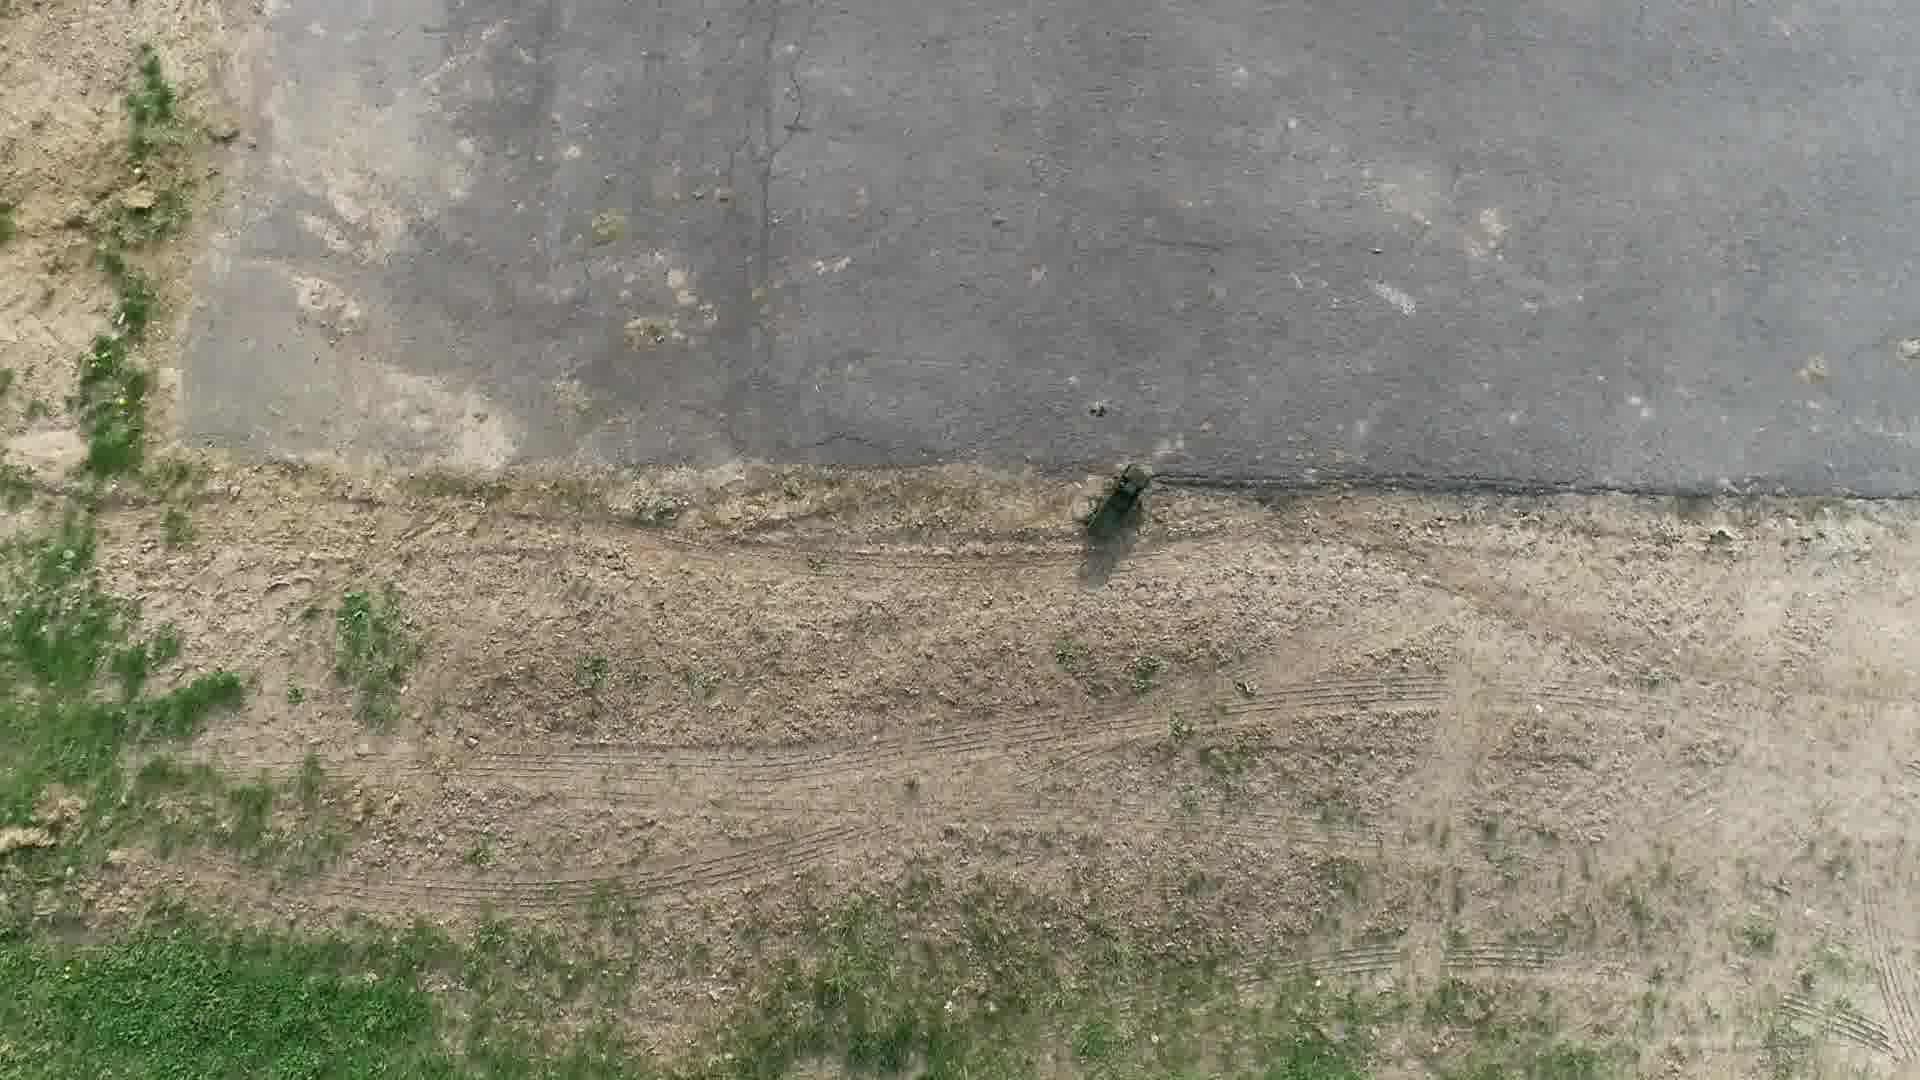transporter9: (1083, 462, 1156, 546)
